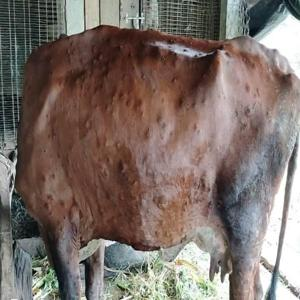lumpy skin diesease: (13, 23, 299, 299)
